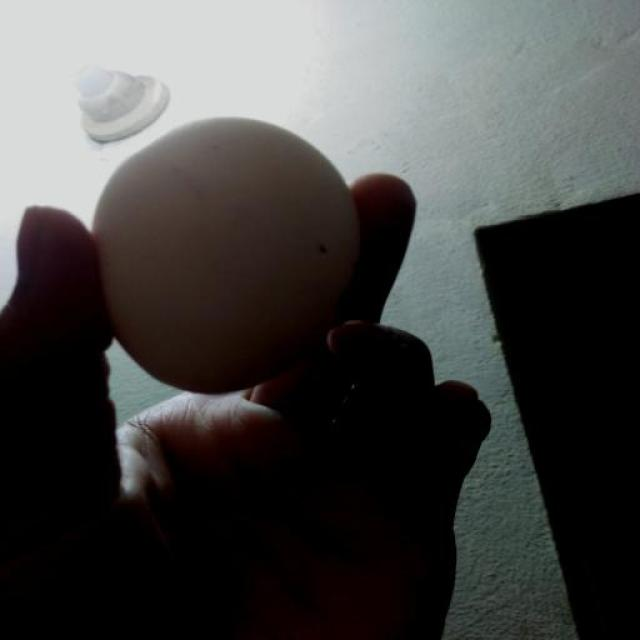telur: (89, 118, 364, 393)
